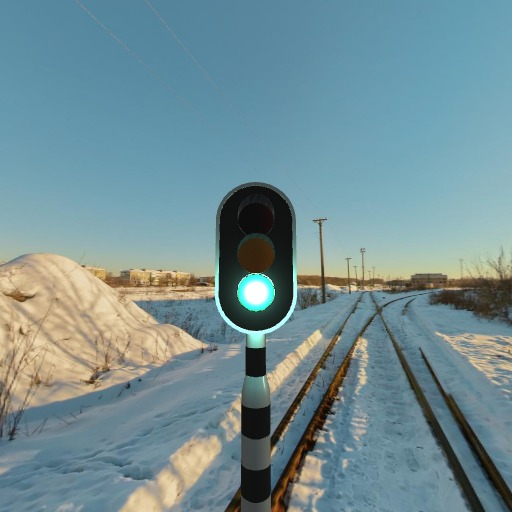Green_Light: (216, 182, 302, 332)
